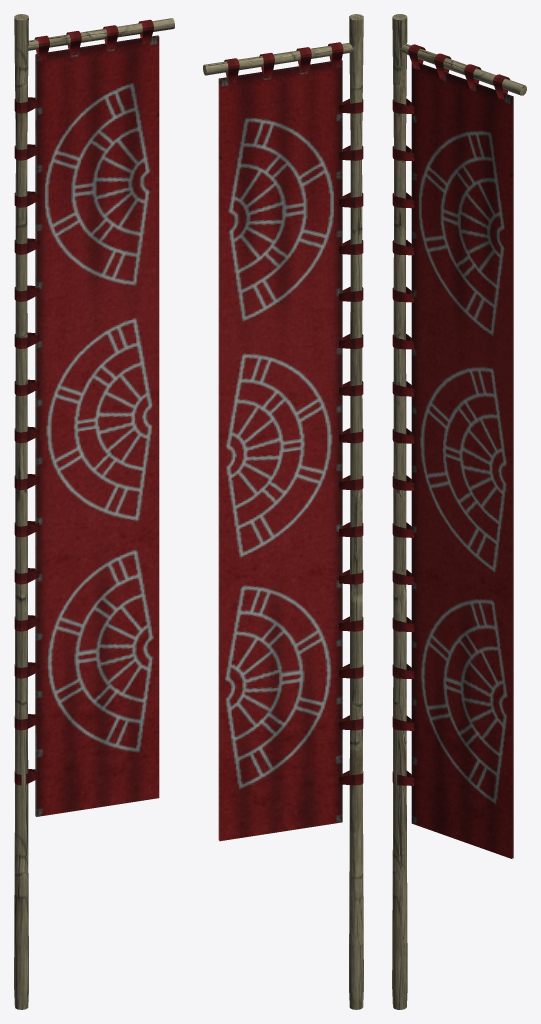
Rendered from flag_01.fbx.
The picture shows the model from 3 angles, left to right: view 1: azimuth 30°, elevation 25°; view 2: azimuth 210°, elevation 25°; view 3: azimuth 330°, elevation 25°; orthographic projection.
Visible parts, largest first — view 1: flag_01; view 2: flag_01; view 3: flag_01.
Boxes of the visible parts, <box> form: flag_01: <box>14,14,174,1009</box>; flag_01: <box>203,14,363,1009</box>; flag_01: <box>392,14,526,1009</box>.
Size of the model in its own units: 23.76 by 155 by 5.81.
